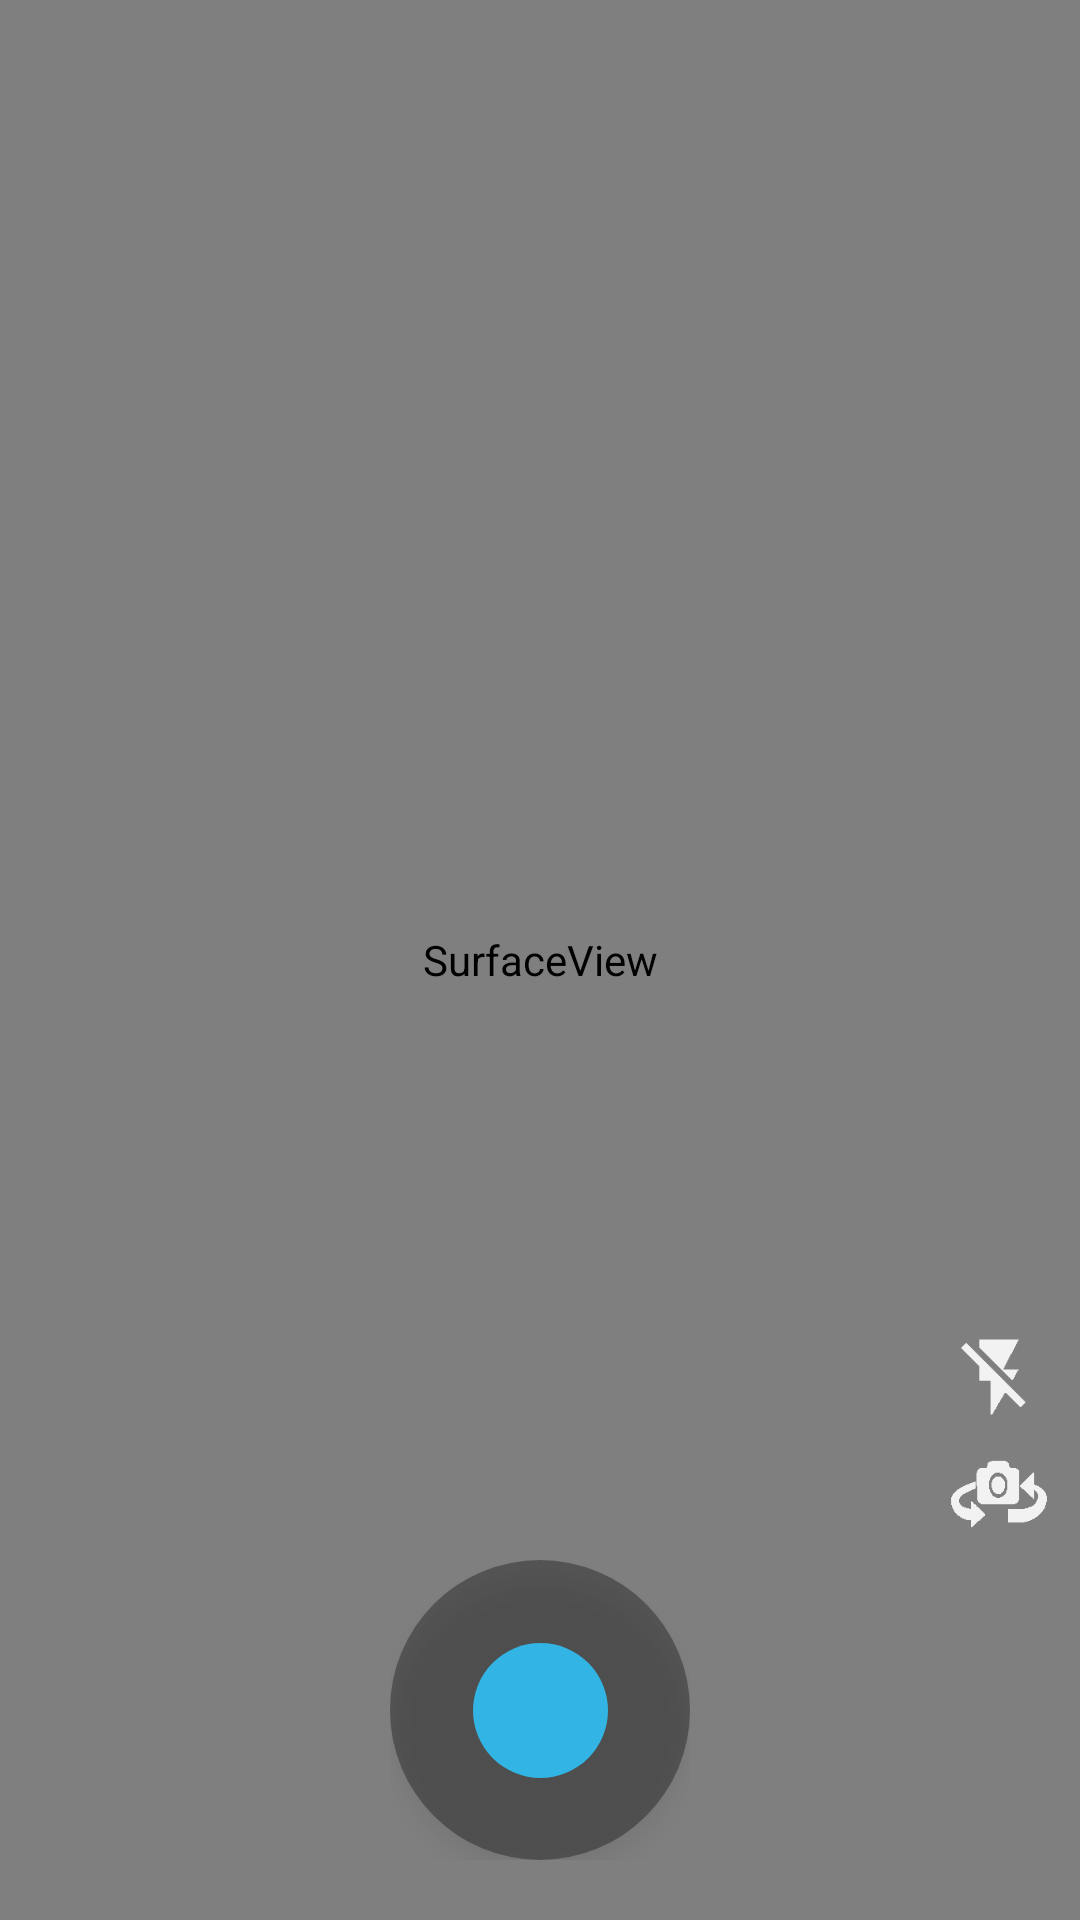

Icons on this 1080 x 1920 Android screen, each with its box as [left=x1, top=y1, right=x2, bottom=y2]:
switch camera: [left=951, top=1461, right=1047, bottom=1527]
